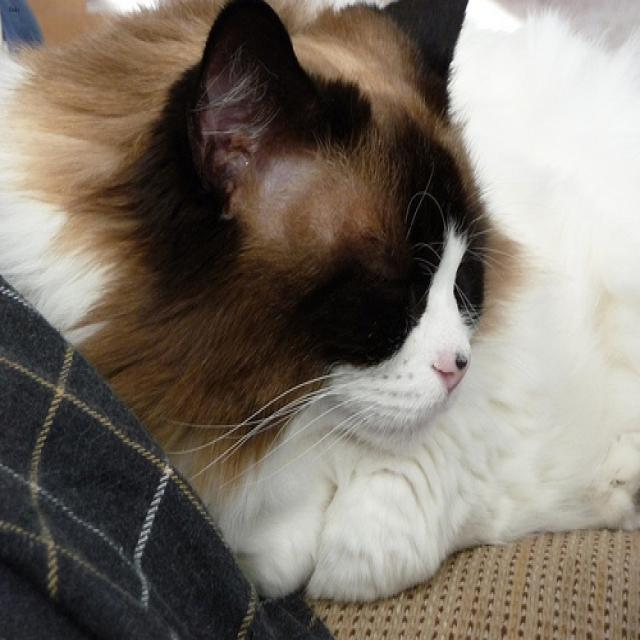Ragdoll: (103, 0, 485, 436)
